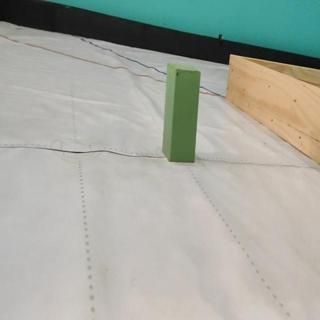greenbox: (163, 66, 199, 166)
